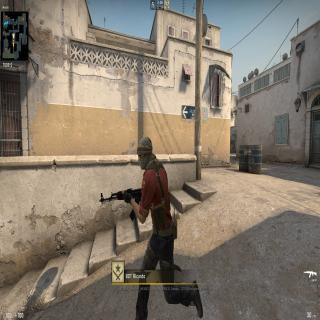T-Head: (136, 132, 156, 170)
